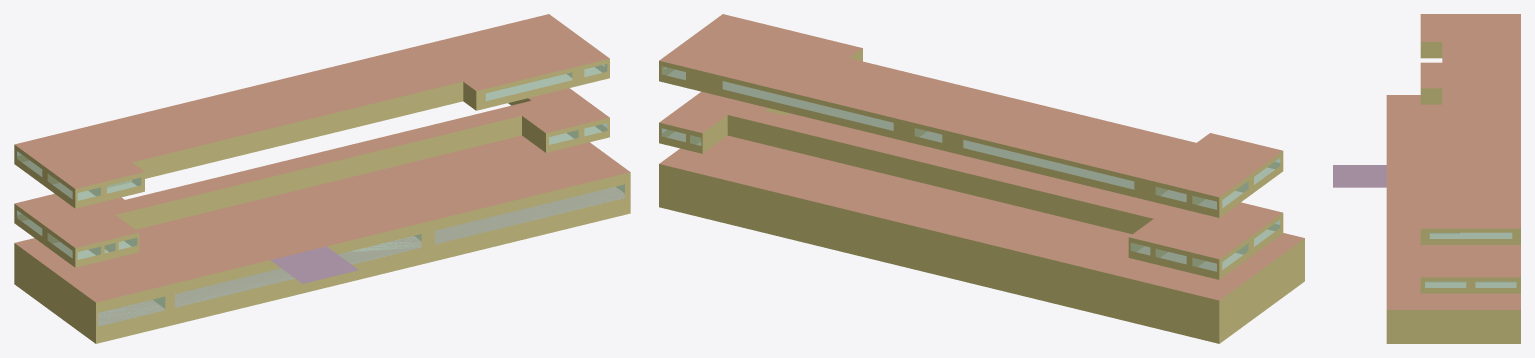
Rendered from RefBldgLargeHotelNew2004_Chicago.gltf.
3 views of the same model, side by side, from view 1: azimuth 30°, elevation 25°; view 2: azimuth 150°, elevation 25°; view 3: azimuth 270°, elevation 25° (orthographic). The views are drawn at different scales.
Visible parts, largest first — view 1: Lobby_Flr_1_Ceiling_1, Basement_Wall_South, Corridor_Flr_3_Wall_3_South, Dining_Flr_6_Ceiling, Banquet_Flr_6_Ceiling, Corridor_Flr_6_Wall_1_South, Corridor_Flr_6_Ceiling_1, Lobby_Flr_1_Ceiling_2, Corridor_Flr_3_Ceiling_2, Cafe_Flr_1_Ceiling, Corridor_Flr_6_Ceiling_2, Lobby_Flr_1_Wall_1_South (+34 smaller); view 2: Lobby_Flr_1_Ceiling_1, Basement_Wall_North, Lobby_Flr_1_Wall_1_North, Corridor_Flr_3_Wall_3_North, Banquet_Flr_6_Ceiling, Dining_Flr_6_Ceiling, Corridor_Flr_6_Ceiling_1, Corridor_Flr_3_Ceiling_2, Corridor_Flr_6_Ceiling_2, Mech_Flr_1_Ceiling, Banquet_Flr_6_Wall_North, Dining_Flr_6_Wall_North (+36 smaller); view 3: Banquet_Flr_6_Ceiling, Dining_Flr_6_Ceiling, Lobby_Flr_1_Ceiling_2, Corridor_Flr_6_Ceiling_1, Cafe_Flr_1_Ceiling, Corridor_Flr_6_Ceiling_2, Laundry_Flr_1_Wall_East, Lobby_Flr_1_Ceiling_1, Basement_Wall_East, Kitchen_Flr_6_Ceiling, Canopy, Kitchen_Flr_6_Wall_East (+23 smaller).
Part boxes in pixels (x1,y1,x2,y2): Lobby_Flr_1_Ceiling_1: (15,135,581,269); Basement_Wall_South: (96,198,630,343); Corridor_Flr_3_Wall_3_South: (116,116,521,229); Dining_Flr_6_Ceiling: (308,24,542,99); Banquet_Flr_6_Ceiling: (78,80,312,155); Corridor_Flr_6_Wall_1_South: (107,81,463,187); Corridor_Flr_6_Ceiling_1: (43,73,355,172); Lobby_Flr_1_Ceiling_2: (147,206,428,284); Corridor_Flr_3_Ceiling_2: (102,106,521,214); Cafe_Flr_1_Ceiling: (409,157,630,221); Corridor_Flr_6_Ceiling_2: (345,48,581,107); Lobby_Flr_1_Wall_1_South: (167,221,428,310); Lobby_Flr_1_Ceiling_1: (689,137,1257,300); Basement_Wall_North: (659,191,1219,343); Lobby_Flr_1_Wall_1_North: (870,215,1219,327); Corridor_Flr_3_Wall_3_North: (727,115,1153,234); Banquet_Flr_6_Ceiling: (945,102,1190,180); Dining_Flr_6_Ceiling: (705,43,949,122); Corridor_Flr_6_Ceiling_1: (912,85,1239,189); Corridor_Flr_3_Ceiling_2: (751,110,1190,224); Corridor_Flr_6_Ceiling_2: (728,21,961,93); Mech_Flr_1_Ceiling: (768,162,908,215); Banquet_Flr_6_Wall_North: (945,130,1152,201); Dining_Flr_6_Wall_North: (704,72,911,142); Banquet_Flr_6_Ceiling: (1460,39,1520,118); Dining_Flr_6_Ceiling: (1460,132,1520,211); Lobby_Flr_1_Ceiling_2: (1386,124,1420,228); Corridor_Flr_6_Ceiling_1: (1442,25,1520,131); Cafe_Flr_1_Ceiling: (1386,229,1420,309); Corridor_Flr_6_Ceiling_2: (1420,132,1459,217); Laundry_Flr_1_Wall_East: (1420,310,1520,330); Lobby_Flr_1_Ceiling_1: (1420,124,1520,298); Basement_Wall_East: (1386,331,1520,343); Kitchen_Flr_6_Ceiling: (1420,211,1520,228); Canopy: (1333,165,1386,187); Kitchen_Flr_6_Wall_East: (1420,228,1520,244).
Bounding box in the file's own units: 86.56 × 21.64 × 32.
